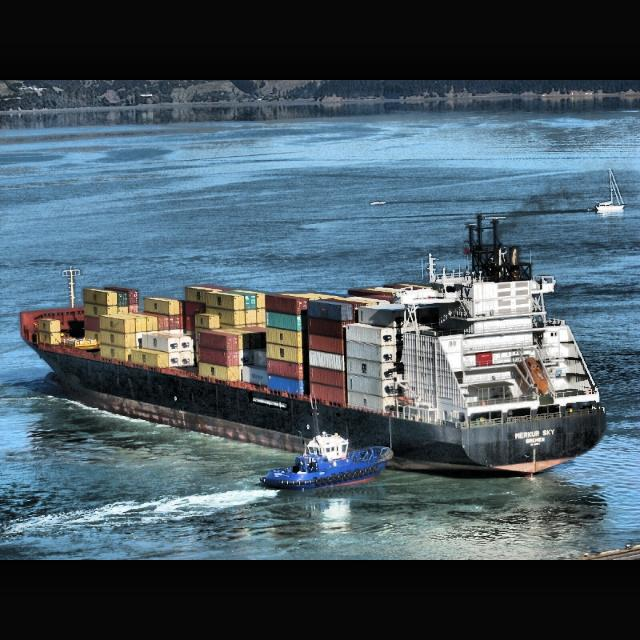container: (18, 214, 608, 478)
tug: (256, 422, 396, 494)
